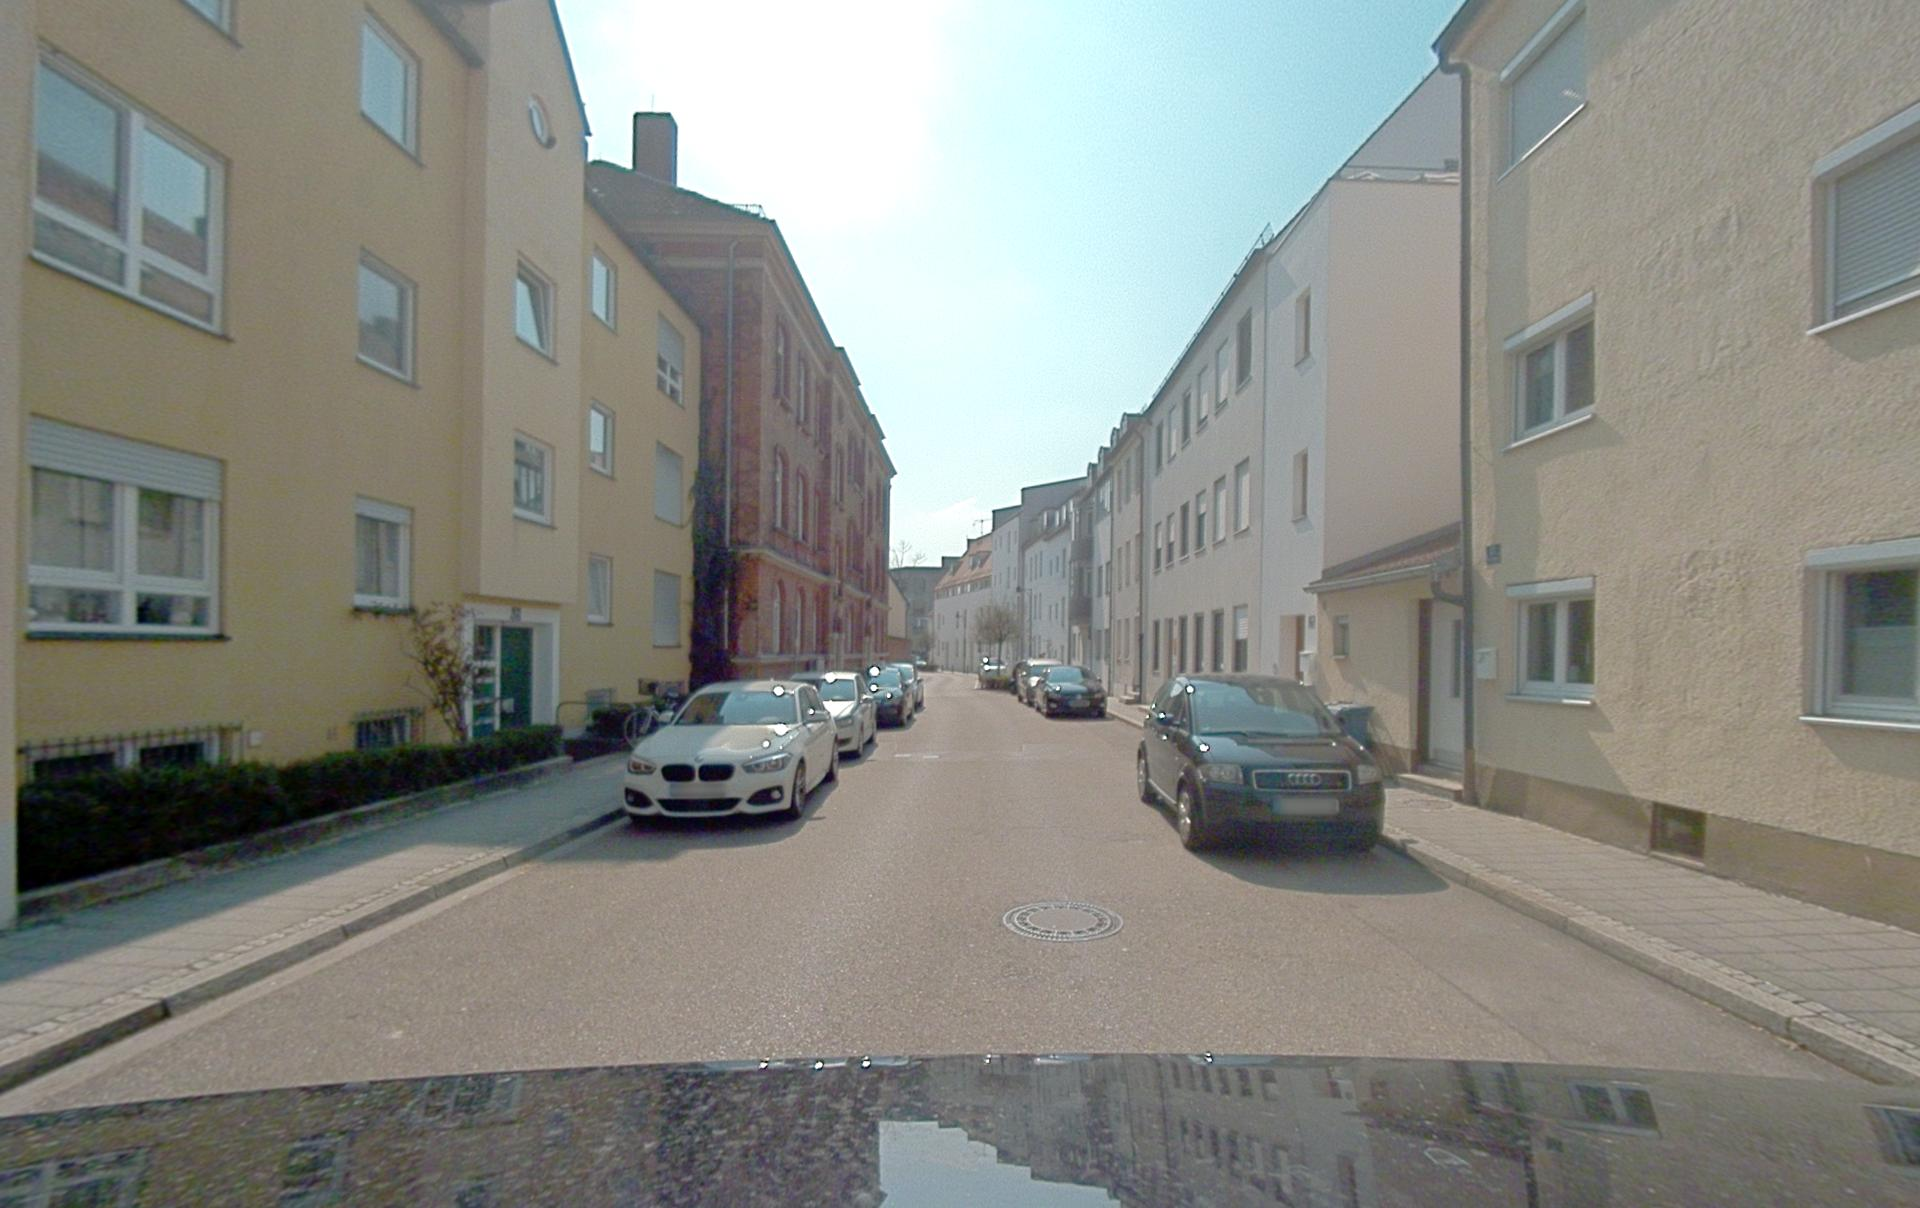car: (1137, 671, 1386, 853), (622, 679, 838, 825), (789, 671, 878, 760), (1034, 665, 1107, 718), (864, 665, 911, 728), (1013, 658, 1062, 706), (888, 662, 924, 713), (977, 657, 1009, 690)
